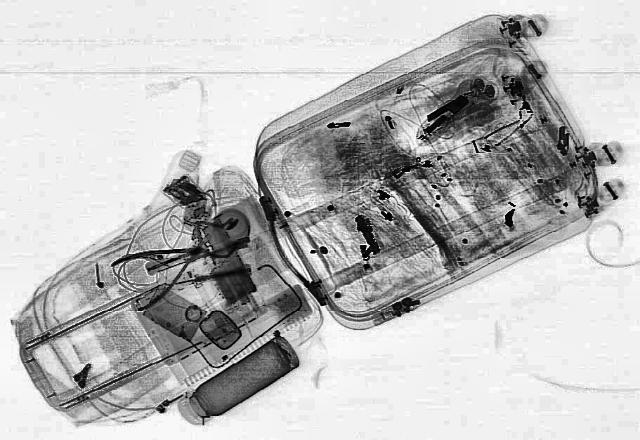Pliers: (95, 228, 241, 312)
